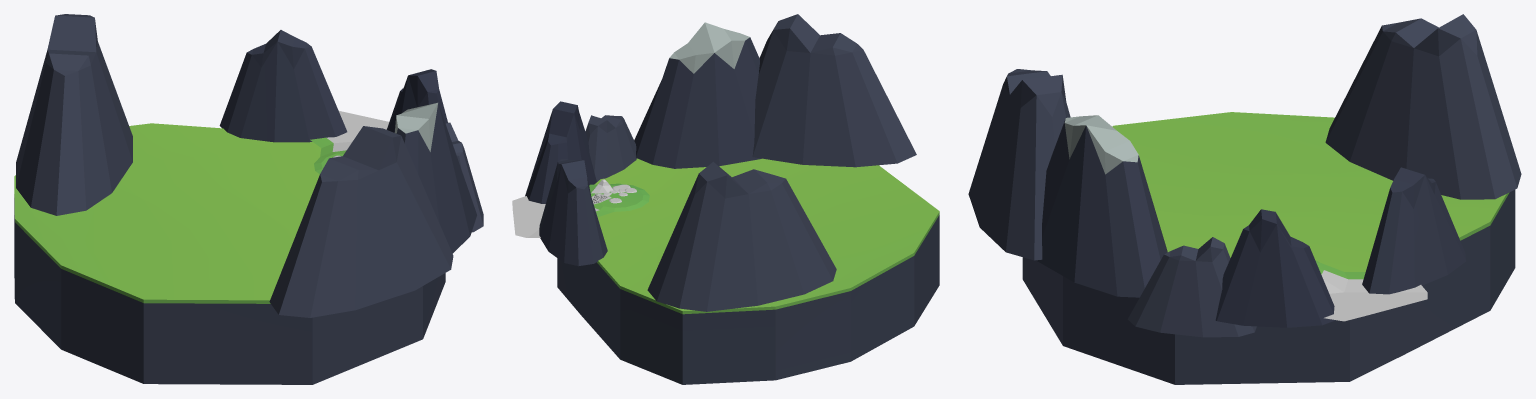
Rendered from EXT_MountainRange_EarthBelow.fbx.
3 views of the same model, side by side, from view 1: azimuth 30°, elevation 25°; view 2: azimuth 150°, elevation 25°; view 3: azimuth 270°, elevation 25° (orthographic). The views are drawn at different scales.
Parts seen in each view (by area): view 1: Level 3 Platform.006, Snow Peaks.008, Snow Peaks.006, Snow Peaks.005, Snow Peaks.009, Snow Peaks.003, TheGiantsCity, Snow Peaks.004; view 2: Level 3 Platform.006, Snow Peaks.006, Snow Peaks.008, Snow Peaks.009, Snow Peaks.005, Snow Peaks.003, TheGiantsCity, Snow Peaks.004; view 3: Level 3 Platform.006, Snow Peaks.006, Snow Peaks.009, Snow Peaks.008, Snow Peaks.003, Snow Peaks.005, Snow Peaks.004, TheGiantsCity.
Part boxes in pixels (x1=…): Level 3 Platform.006: x1=14, y1=123, x2=445, y2=384; Snow Peaks.008: x1=269, y1=126, x2=453, y2=317; Snow Peaks.006: x1=16, y1=14, x2=132, y2=215; Snow Peaks.005: x1=219, y1=30, x2=347, y2=142; Snow Peaks.009: x1=394, y1=102, x2=476, y2=253; Snow Peaks.003: x1=386, y1=69, x2=447, y2=132; TheGiantsCity: x1=310, y1=111, x2=389, y2=173; Snow Peaks.004: x1=445, y1=122, x2=483, y2=232; Level 3 Platform.006: x1=557, y1=158, x2=939, y2=384; Snow Peaks.006: x1=647, y1=161, x2=836, y2=311; Snow Peaks.008: x1=752, y1=14, x2=916, y2=167; Snow Peaks.009: x1=634, y1=22, x2=761, y2=168; Snow Peaks.005: x1=539, y1=159, x2=607, y2=266; Snow Peaks.003: x1=525, y1=101, x2=596, y2=203; TheGiantsCity: x1=512, y1=179, x2=649, y2=237; Snow Peaks.004: x1=585, y1=115, x2=636, y2=181; Level 3 Platform.006: x1=1022, y1=112, x2=1515, y2=384; Snow Peaks.006: x1=1325, y1=14, x2=1521, y2=199; Snow Peaks.009: x1=1036, y1=115, x2=1167, y2=297; Snow Peaks.008: x1=968, y1=69, x2=1070, y2=260; Snow Peaks.003: x1=1215, y1=209, x2=1335, y2=327; Snow Peaks.005: x1=1362, y1=167, x2=1465, y2=294; Snow Peaks.004: x1=1127, y1=237, x2=1256, y2=337; TheGiantsCity: x1=1315, y1=260, x2=1427, y2=321.
Bounding box in the file's own units: 560815 × 299678 × 624665.
